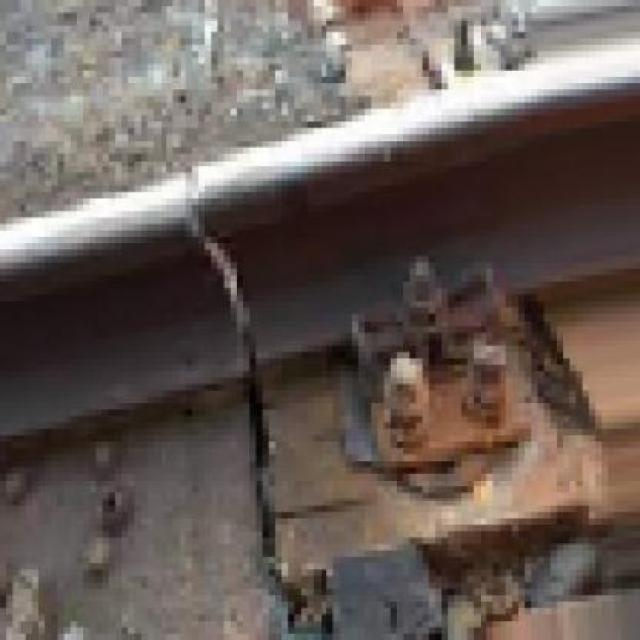defective: (66, 112, 397, 640)
